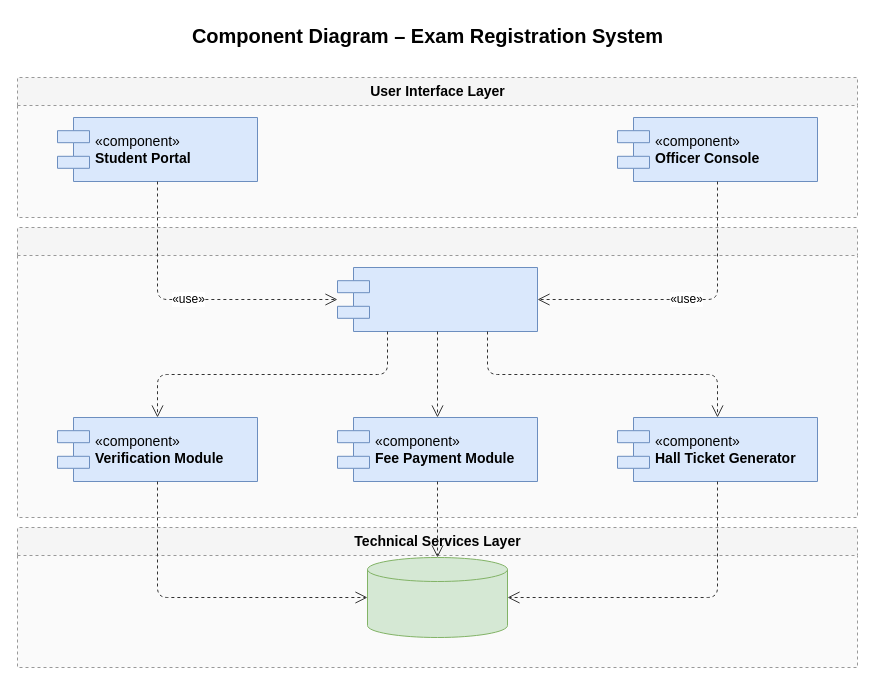
Image size: 875x685. Some labels were removed from this diagram. Here are the shapes that lost their labels. From the top down, the box of each, then its label:
(336, 266, 538, 332): «component» Exam Registration System
(16, 226, 858, 518): Domain Layer
(366, 556, 508, 638): Exam DB
